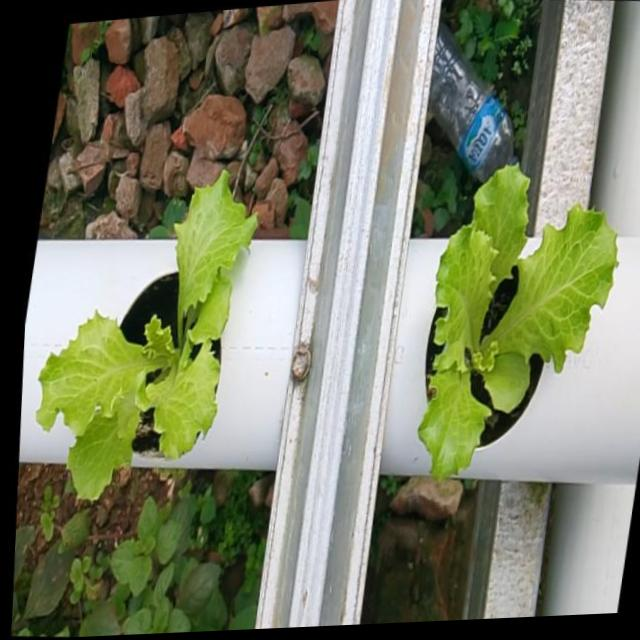Baby: (33, 173, 255, 503), (415, 164, 615, 481)
